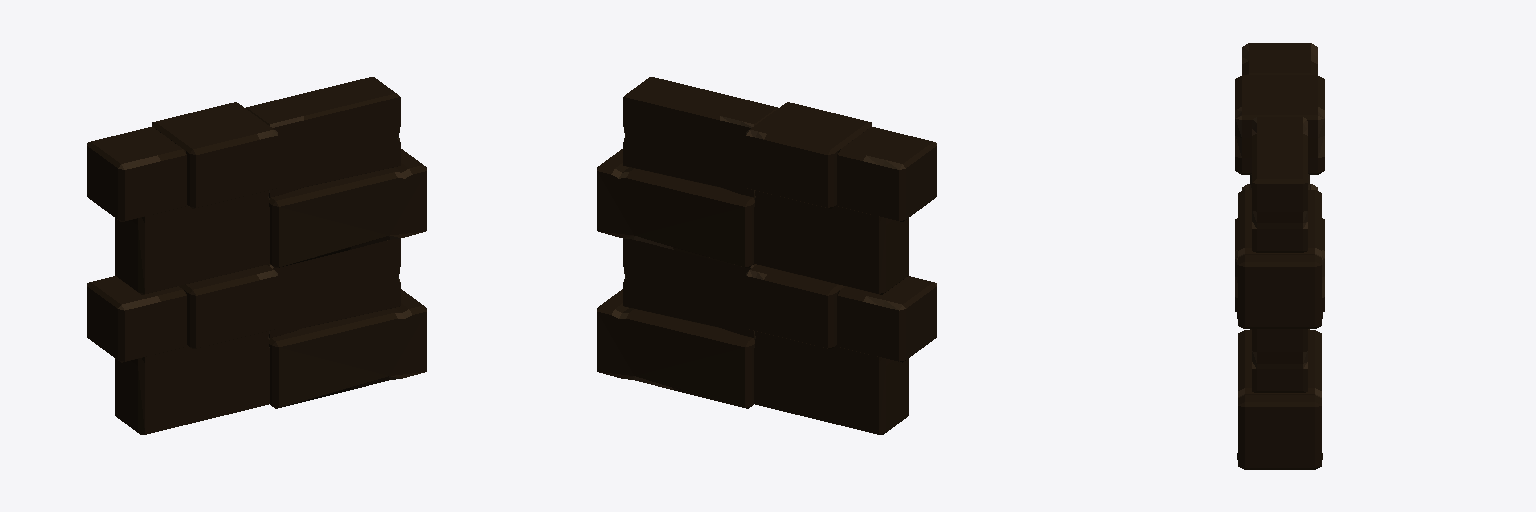
Rendered from Decorative_Wall.obj.
3 renders of one model, left to right at view 1: azimuth 30°, elevation 25°; view 2: azimuth 150°, elevation 25°; view 3: azimuth 270°, elevation 25°, orthographic.
Parts seen in each view (by area): view 1: Decorative_Wall_Cube.005; view 2: Decorative_Wall_Cube.005; view 3: Decorative_Wall_Cube.005.
Boxes of the visible parts, x1,y1,x2,y2 form: Decorative_Wall_Cube.005: [87, 77, 426, 434]; Decorative_Wall_Cube.005: [597, 77, 936, 434]; Decorative_Wall_Cube.005: [1235, 43, 1324, 469].
Size of the model in its own units: 1.74 by 1.52 by 0.4381.